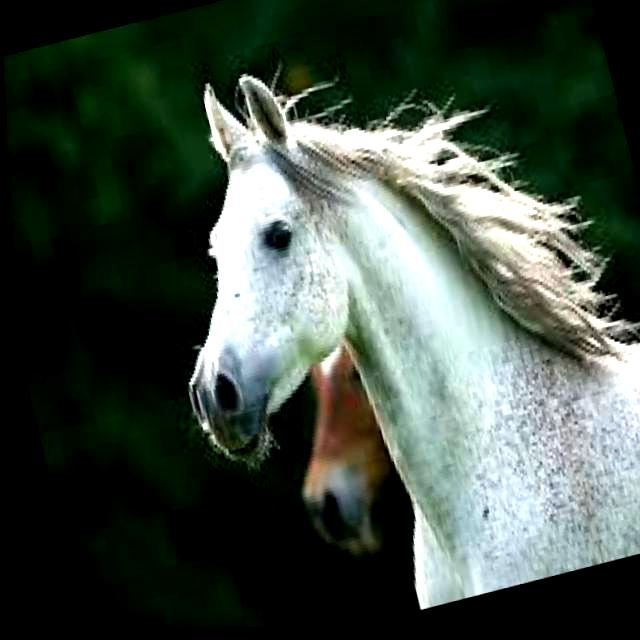horse: (155, 40, 596, 479)
